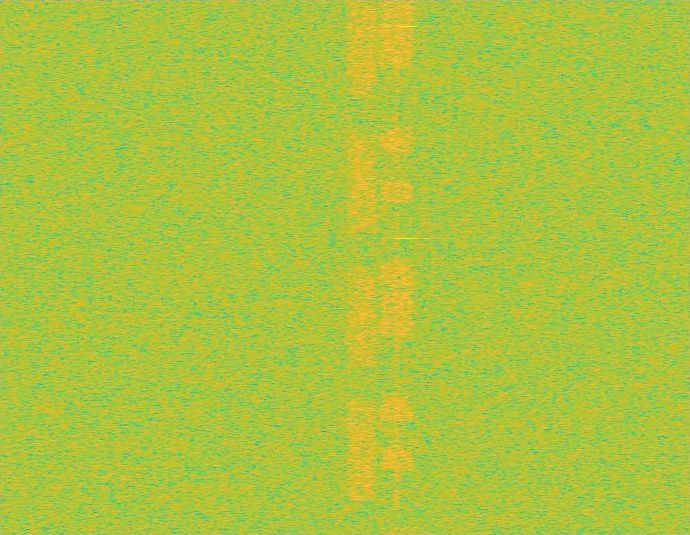5G: (345, 0, 380, 534)
DSSS: (394, 0, 399, 534)
LTE: (380, 0, 414, 534)
Radar: (400, 0, 413, 534)
